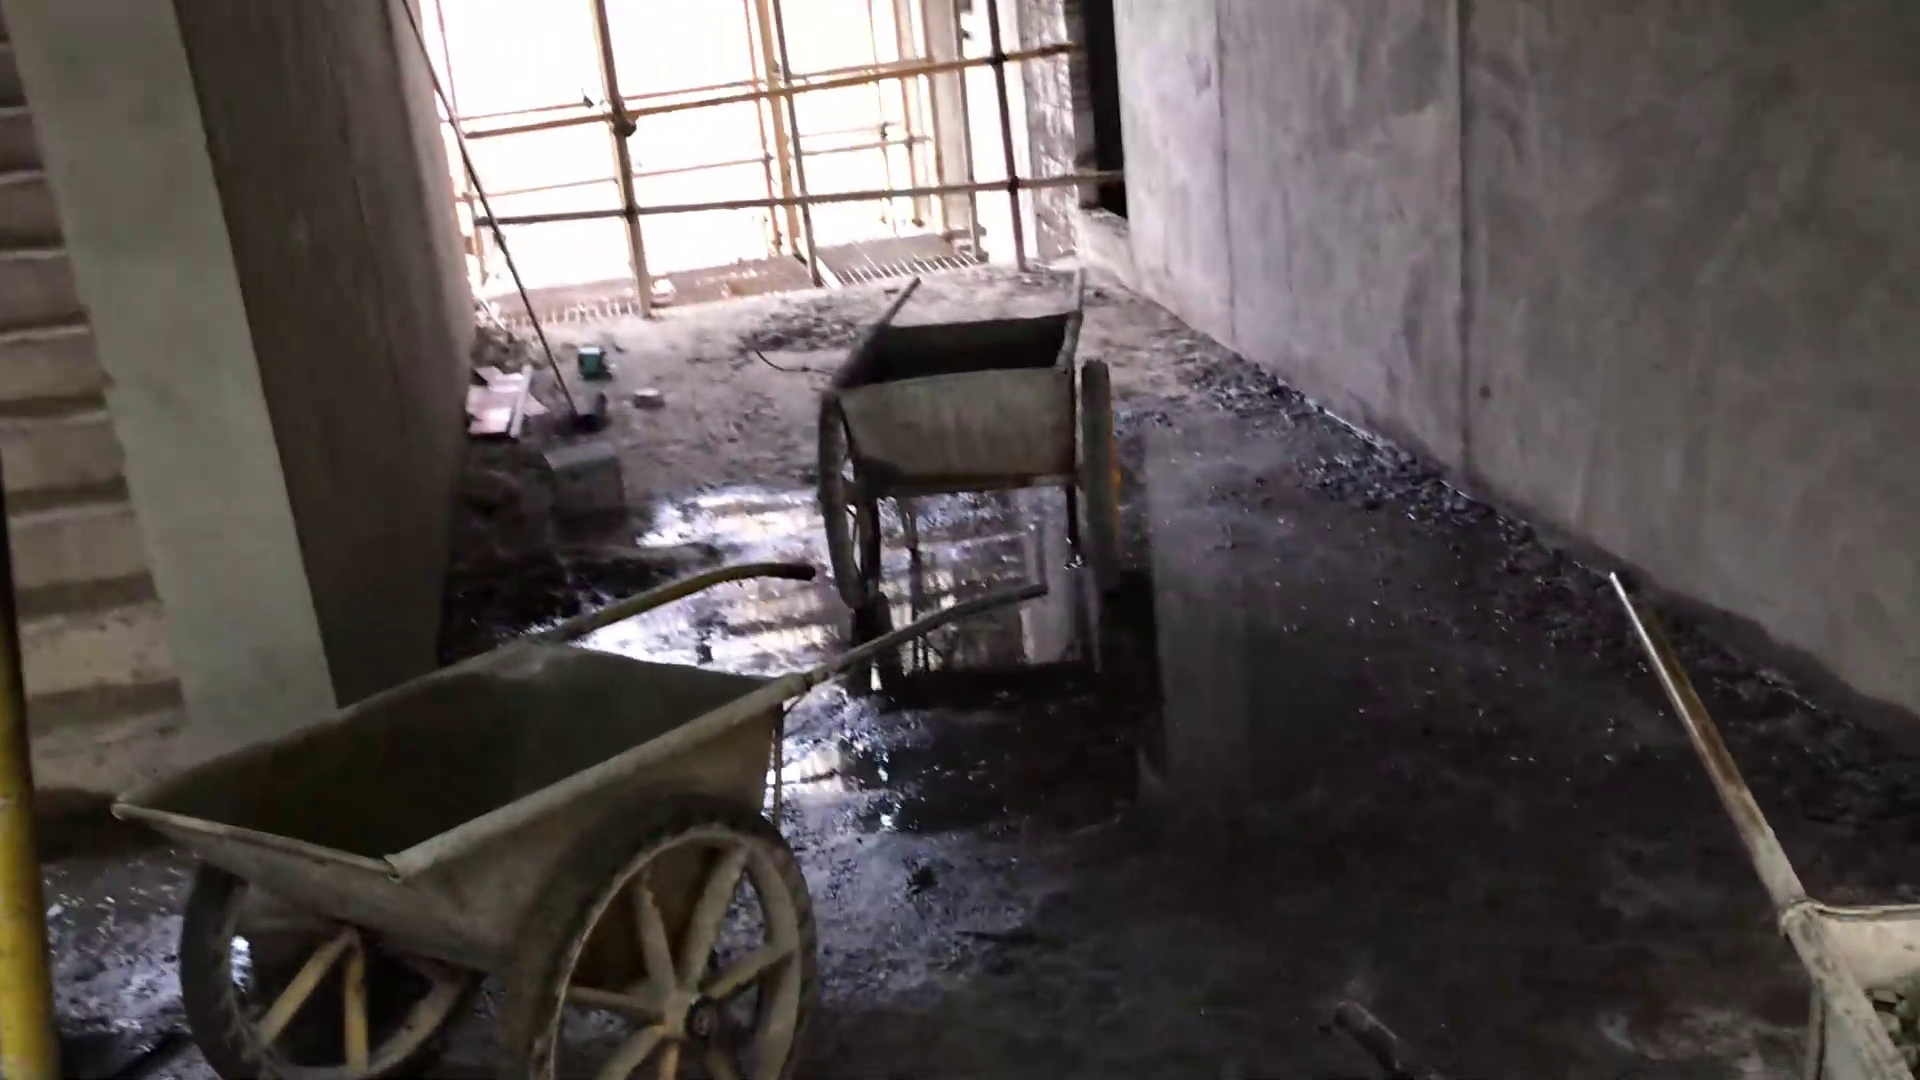handcart: (78, 563, 1048, 1060), (798, 257, 1147, 615)
